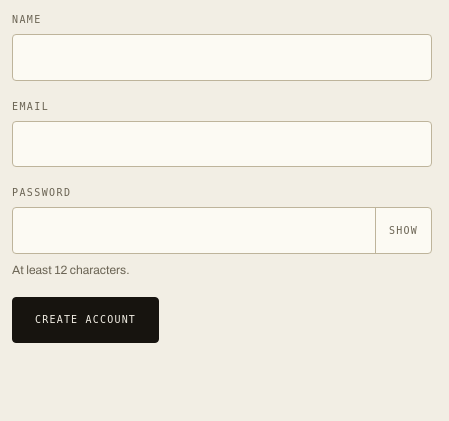
Scenario: SignUpForm › rejects a password the server would refuse before sending it
Type "Asha" into the field labelled "NAME" at (222, 57), box [12,34,432,80]
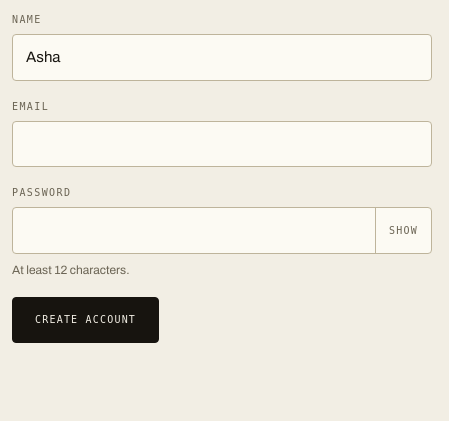
Type "asha@example.com" into the field labelled "EMAIL" at (222, 144), box [12,120,432,167]
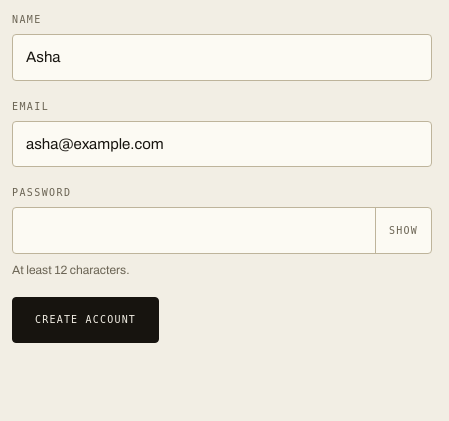
Type "short" into the password field labelled "PASSWORD" at (222, 230), box [12,207,432,254]
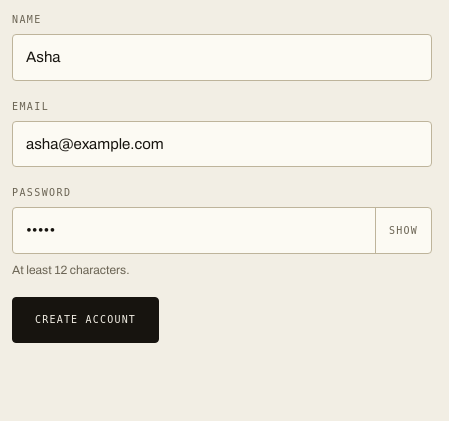
Click the button "CREATE ACCOUNT" at (86, 320), box [12,296,159,342]
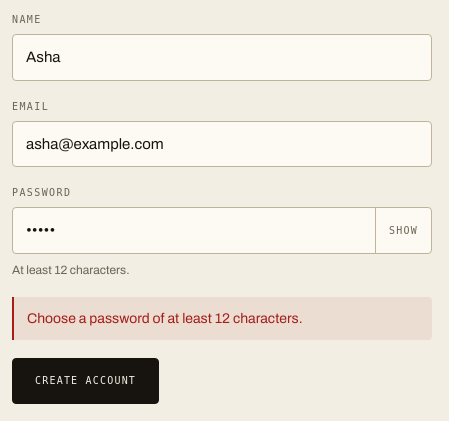
Now the message shows "12", box [27,310,303,326]
